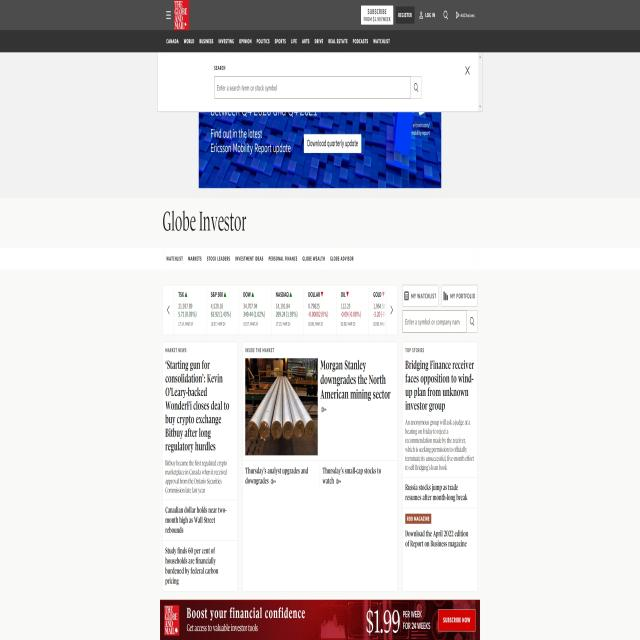menu-bar: (358, 4, 475, 28)
search: (212, 75, 420, 97), (404, 310, 476, 332)
tab-bar: (161, 243, 357, 272), (163, 28, 391, 52)
